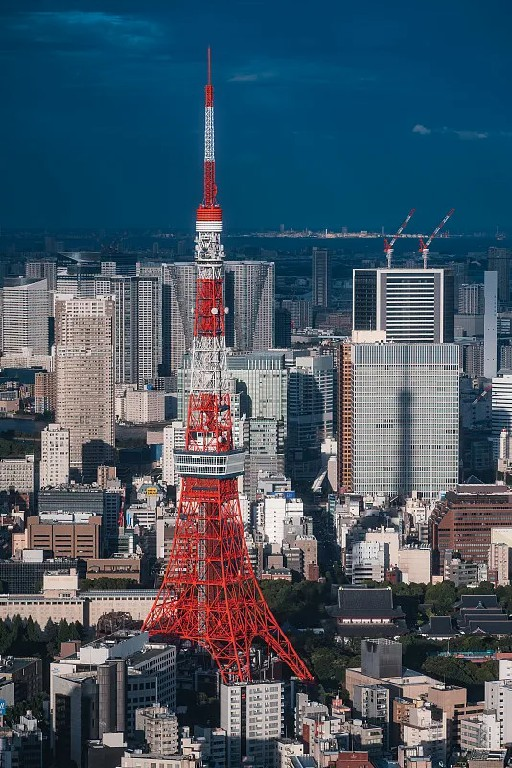Tokyo: (149, 39, 316, 685)
